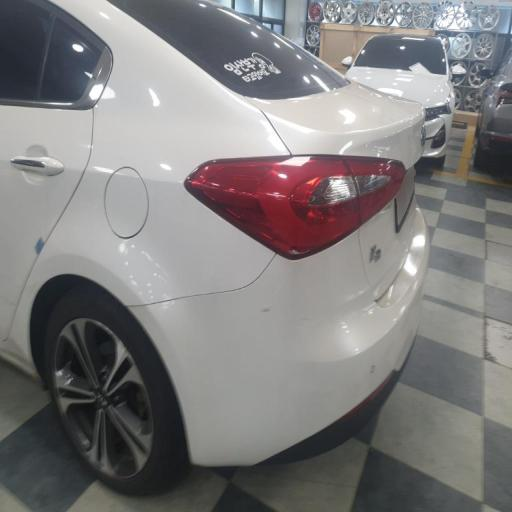scratch: (87, 198, 194, 328)
